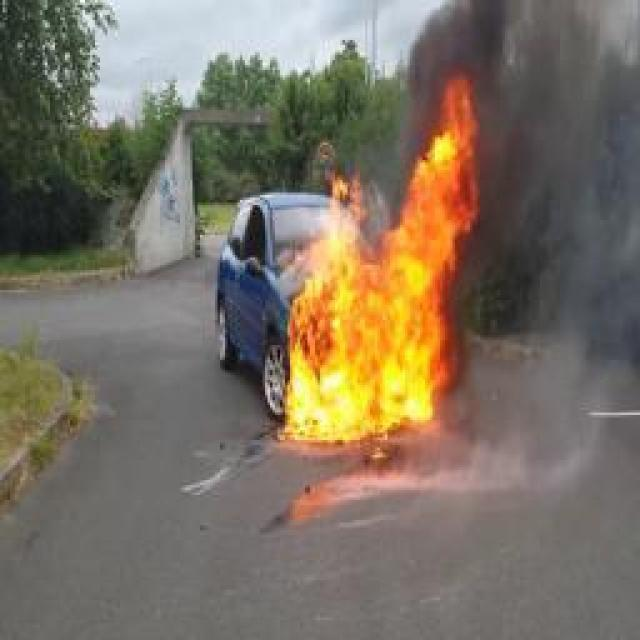Fire: (284, 74, 482, 442)
